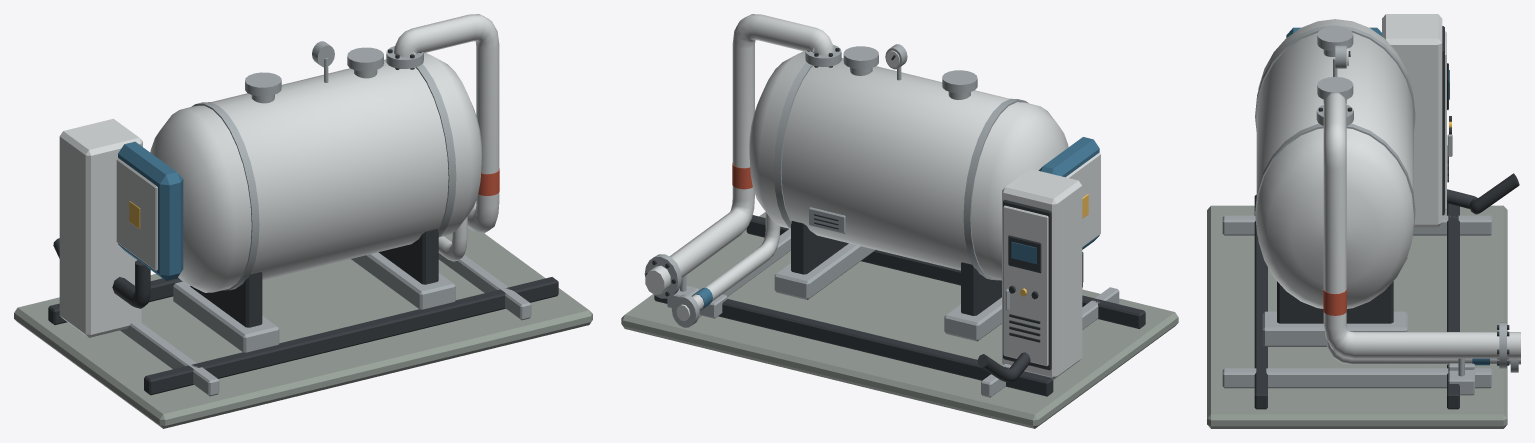
File: electric_boiler.glb
3 views of the same model, side by side, from view 1: azimuth 30°, elevation 25°; view 2: azimuth 150°, elevation 25°; view 3: azimuth 270°, elevation 25° (orthographic). The views are drawn at different scales.
Parts seen in each view (by area): view 1: ThermalAssembly; view 2: ThermalAssembly; view 3: ThermalAssembly.
Boxes of the visible parts, x1,y1,x2,y2 form: ThermalAssembly: (14, 14, 592, 428); ThermalAssembly: (621, 14, 1178, 428); ThermalAssembly: (1207, 14, 1520, 428).
Size of the model in its own units: 0.4 by 0.25 by 0.25.
